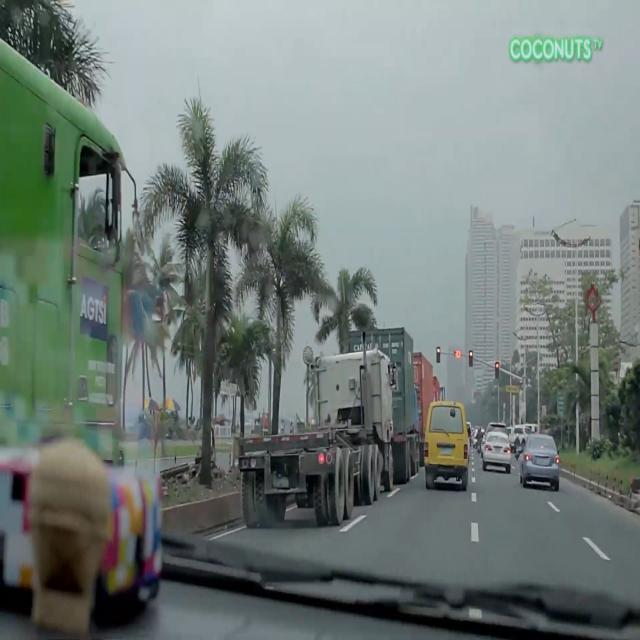truck: (0, 34, 140, 500), (236, 330, 399, 528), (340, 328, 420, 486), (413, 352, 436, 467)
